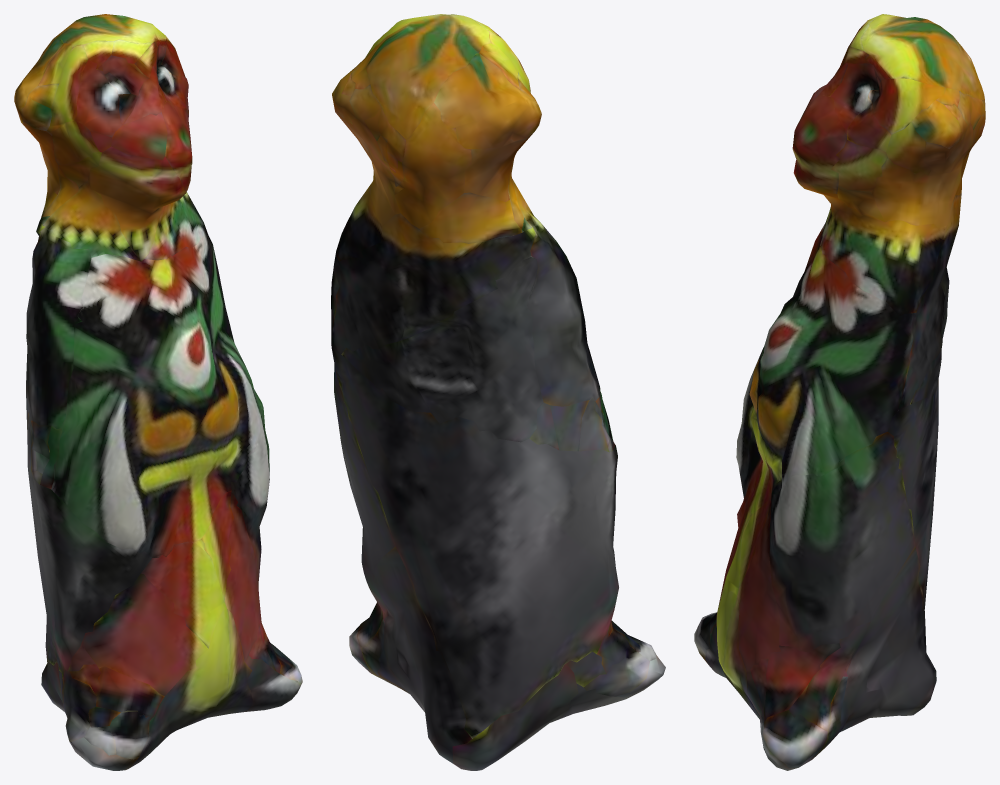
The model's file is hall.glb.
3 renders of one model, left to right at view 1: azimuth 30°, elevation 25°; view 2: azimuth 150°, elevation 25°; view 3: azimuth 270°, elevation 25°, orthographic. The views are drawn at different scales.
Size of the model in its own units: 0.3788 by 0.974 by 0.369.
Materials: 1 (1 with a texture image).
